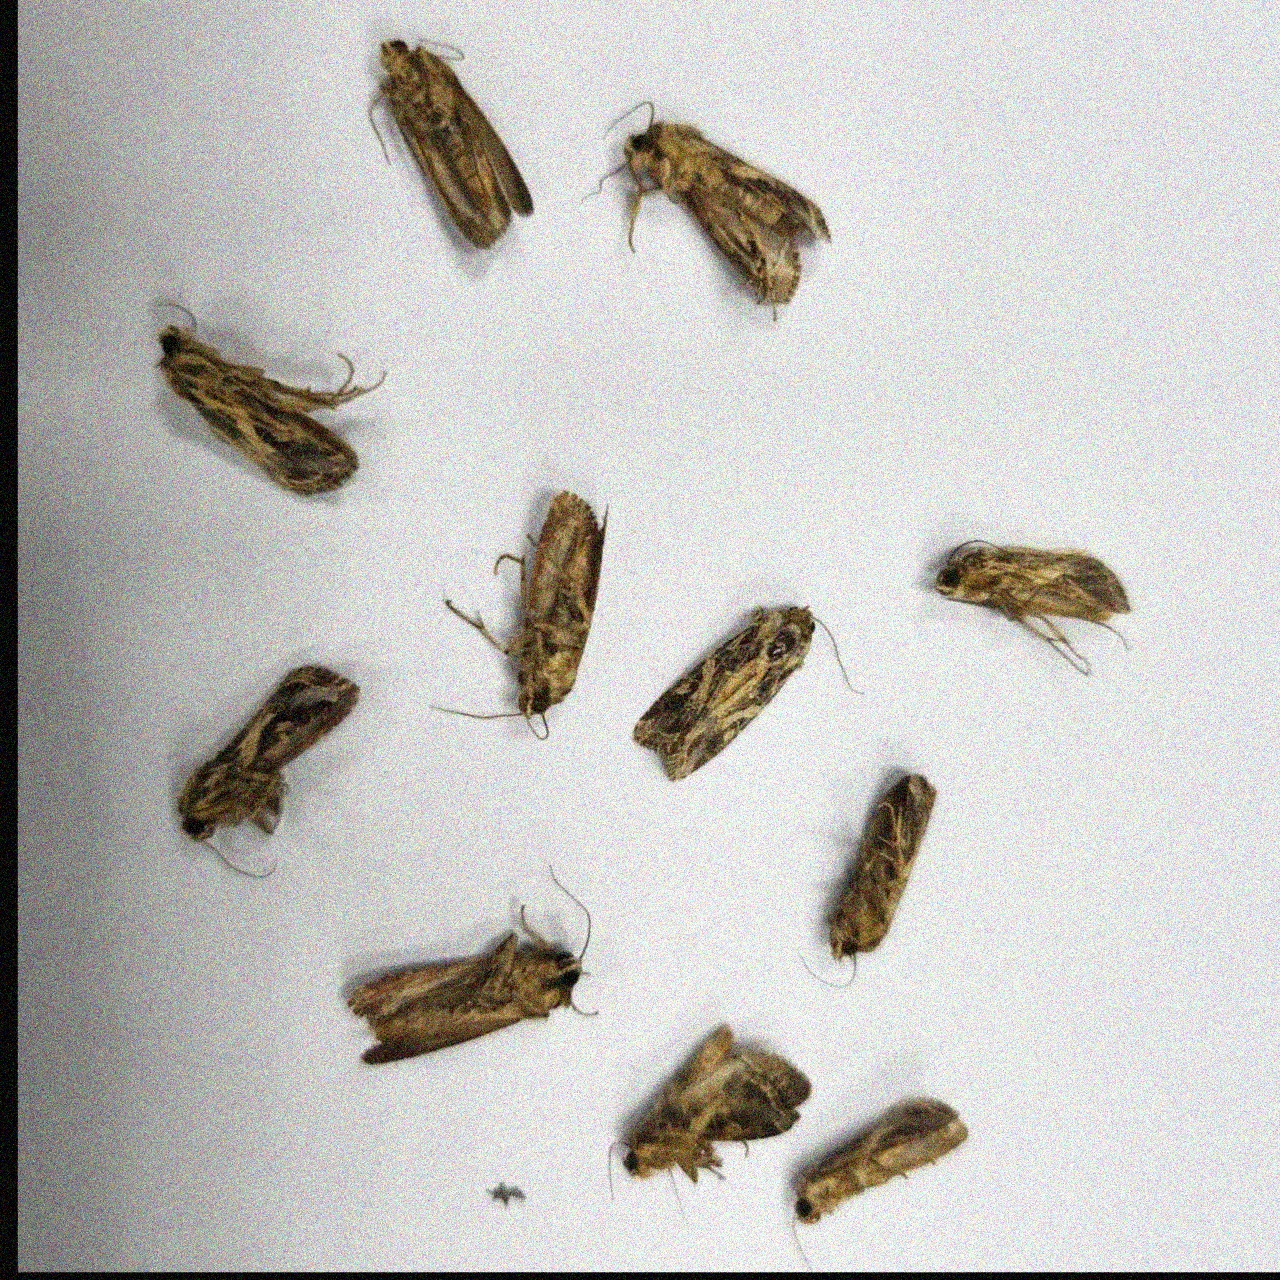Spodoptera litura: (581, 100, 831, 322), (347, 863, 598, 1065), (152, 301, 387, 495), (429, 489, 610, 740), (632, 602, 862, 783), (607, 1022, 811, 1225), (178, 665, 359, 878), (367, 35, 535, 251), (794, 1098, 969, 1272), (795, 772, 935, 986), (933, 538, 1129, 678)
